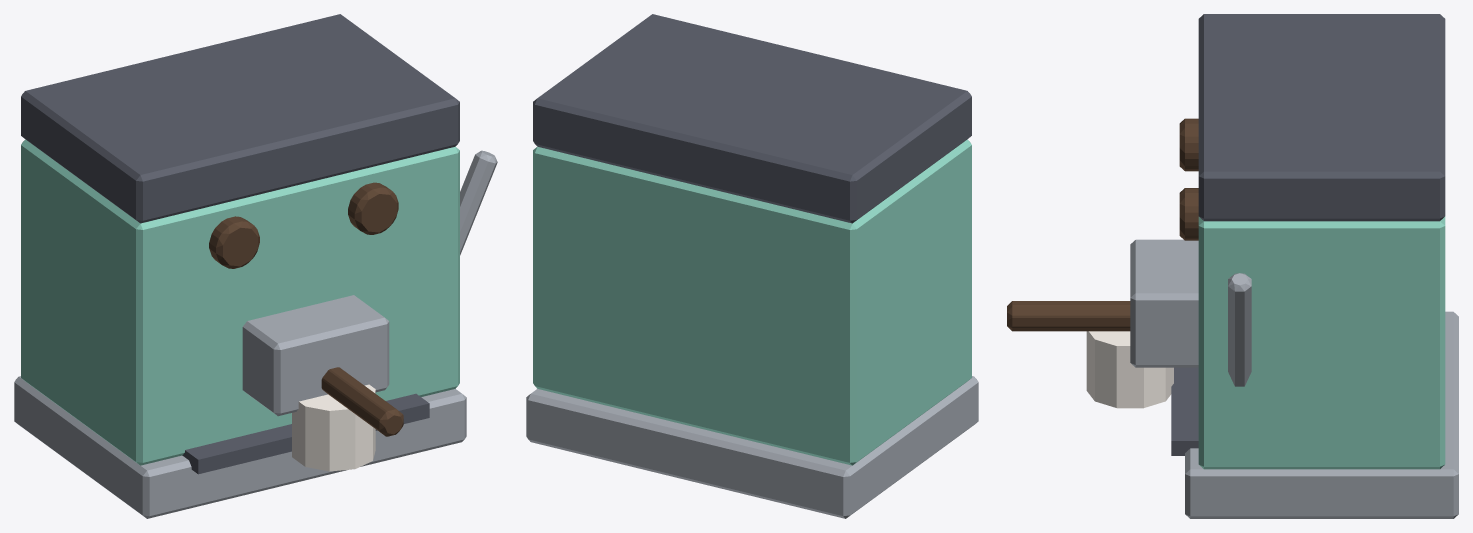
Rendered from CatCafe_Furniture_EspressoMachine_L1.glb.
The picture shows the model from 3 angles, left to right: view 1: azimuth 30°, elevation 25°; view 2: azimuth 150°, elevation 25°; view 3: azimuth 270°, elevation 25°; orthographic projection. The views are drawn at different scales.
Visible parts, largest first — view 1: CatCafe_Furniture_EspressoMachine_L1, CatCafe_Furniture_EspressoMachine_L1_Steam; view 2: CatCafe_Furniture_EspressoMachine_L1; view 3: CatCafe_Furniture_EspressoMachine_L1, CatCafe_Furniture_EspressoMachine_L1_Steam.
Boxes of the visible parts, x1,y1,x2,y2 form: CatCafe_Furniture_EspressoMachine_L1: [14, 14, 497, 518]; CatCafe_Furniture_EspressoMachine_L1_Steam: [292, 384, 375, 471]; CatCafe_Furniture_EspressoMachine_L1: [526, 14, 978, 518]; CatCafe_Furniture_EspressoMachine_L1: [1007, 14, 1458, 518]; CatCafe_Furniture_EspressoMachine_L1_Steam: [1086, 331, 1173, 408].
Bounding box in the file's own units: 1.63 × 1.4 × 1.65.
1 material, 1 textured.
